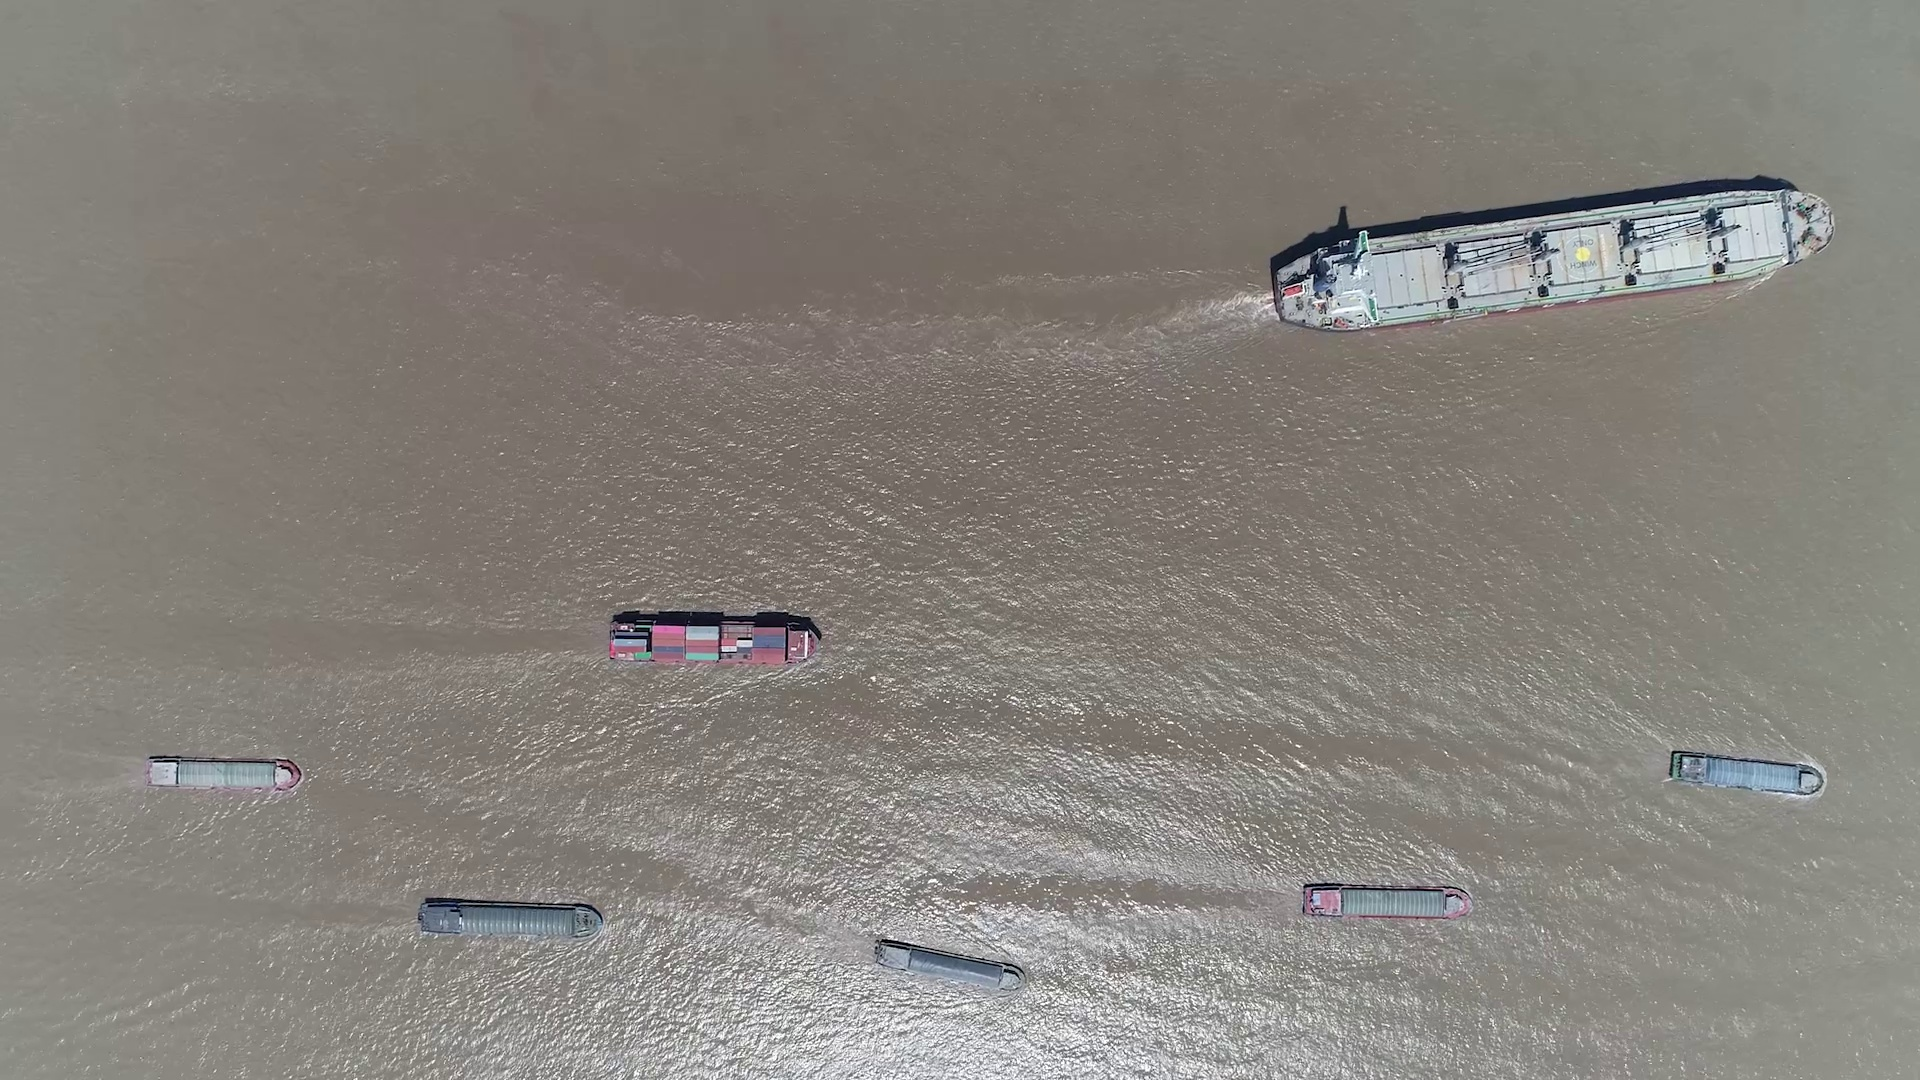ship: (1266, 186, 1836, 332), (607, 617, 820, 666), (876, 939, 1023, 990), (418, 899, 601, 939), (1668, 752, 1822, 796), (1302, 882, 1470, 920), (142, 756, 301, 793)
